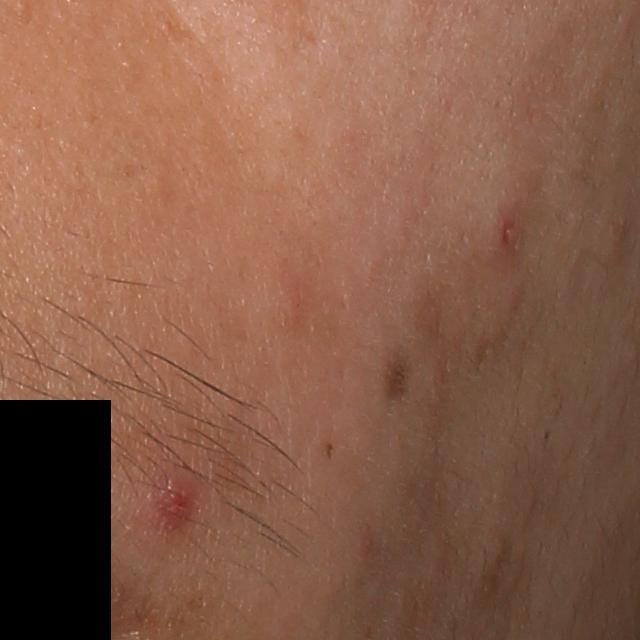nevus: (383, 339, 422, 412)
papule: (145, 467, 202, 533), (488, 198, 529, 257)
